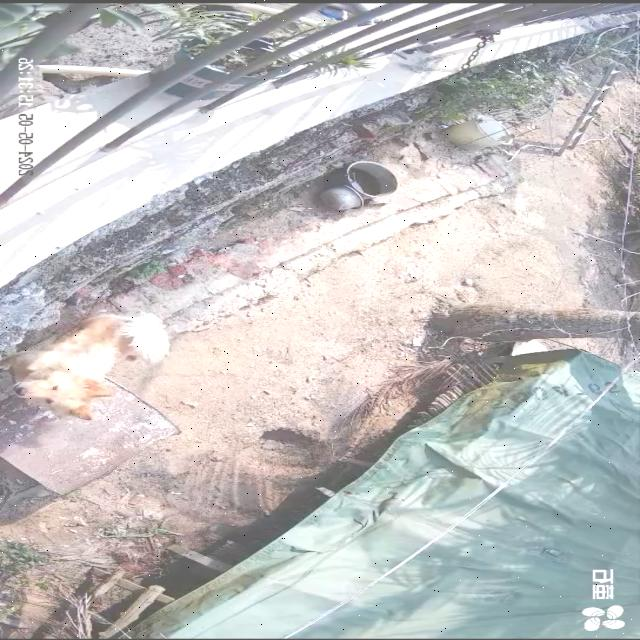dog: (2, 313, 172, 422)
